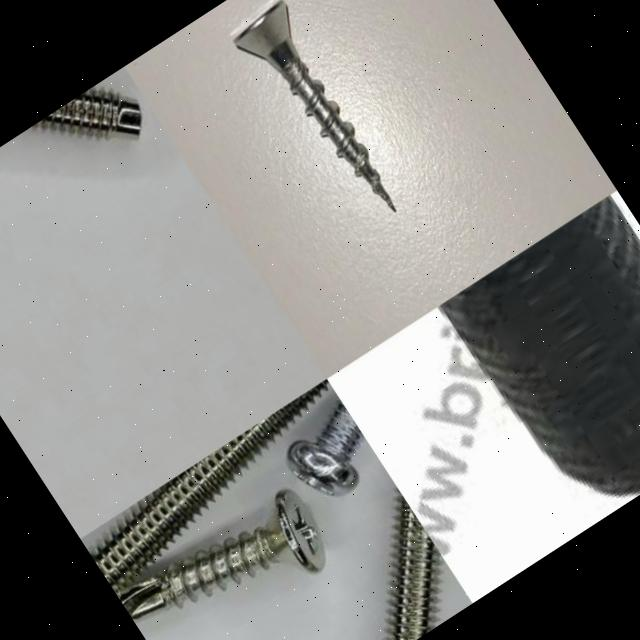Screw: (430, 190, 640, 505), (89, 378, 330, 593), (232, 0, 395, 210), (118, 490, 325, 619), (387, 491, 437, 640), (287, 398, 362, 495)
